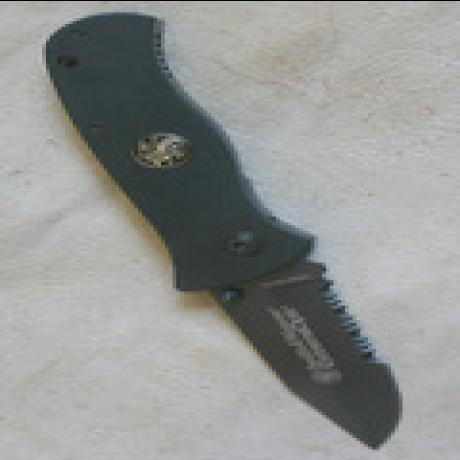weapon: (36, 8, 406, 454)
